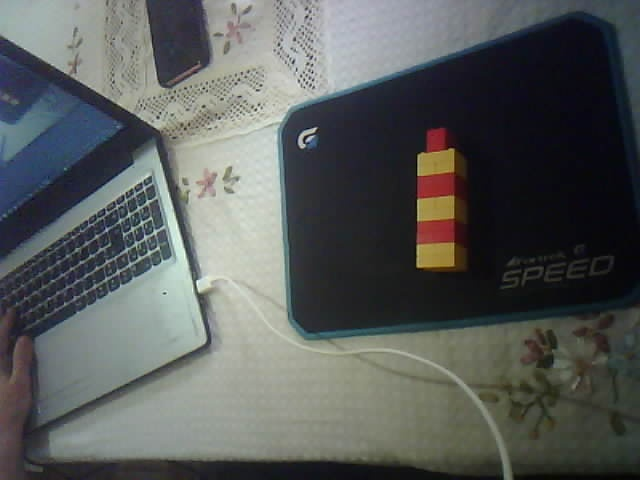lego: (414, 127, 469, 273)
